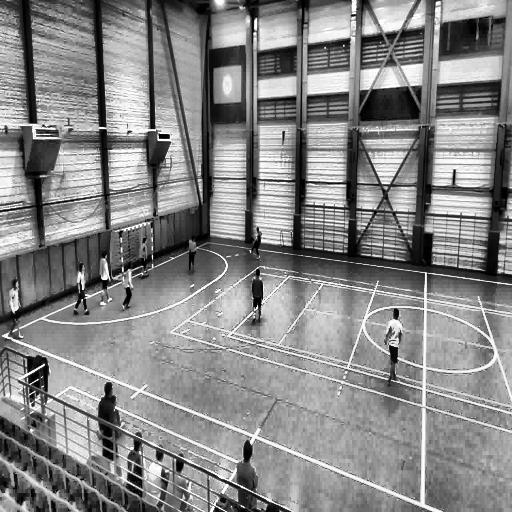player: (97, 381, 123, 483), (234, 439, 258, 512), (384, 308, 402, 386), (74, 264, 91, 315), (9, 277, 22, 336), (252, 267, 264, 323), (100, 252, 112, 304), (123, 262, 134, 309), (139, 238, 149, 280), (187, 235, 197, 273), (251, 226, 261, 258)
